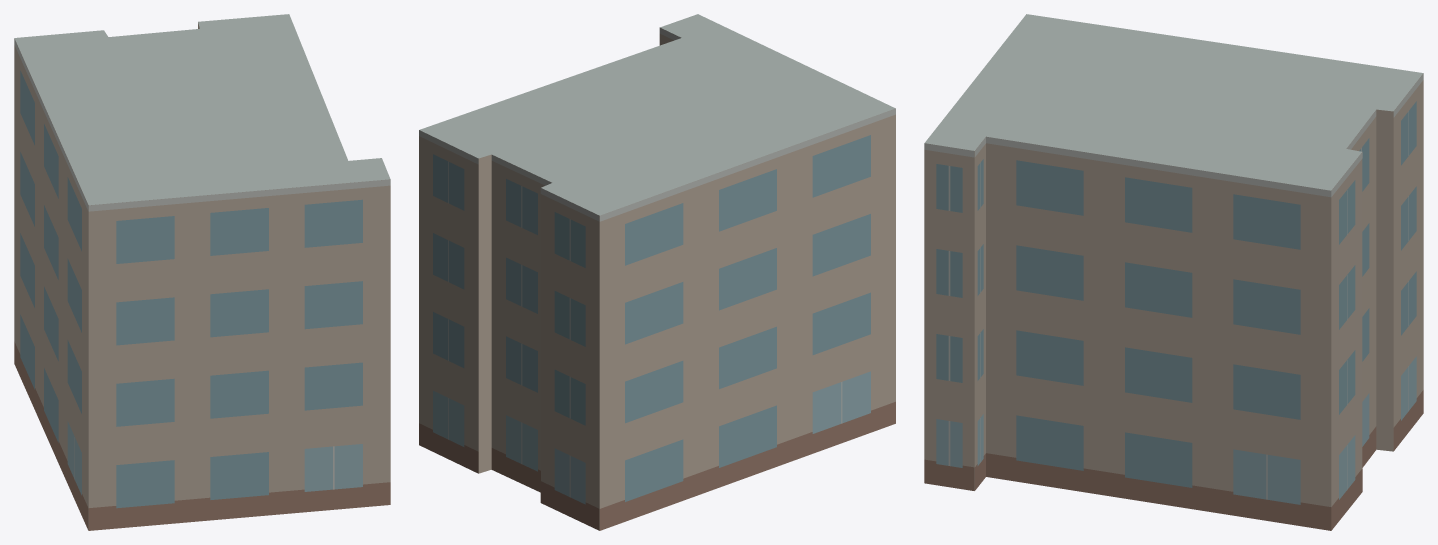
Rendered from survey-upis-32535114.glb.
3 views of the same model, side by side, from view 1: azimuth 30°, elevation 25°; view 2: azimuth 150°, elevation 25°; view 3: azimuth 270°, elevation 25° (orthographic). The views are drawn at different scales.
Visible parts, largest first — view 1: survey-upis-32535114.tmp; view 2: survey-upis-32535114.tmp; view 3: survey-upis-32535114.tmp.
Part boxes in pixels (<box>): survey-upis-32535114.tmp: <box>14,14,390,530</box>; survey-upis-32535114.tmp: <box>419,14,895,530</box>; survey-upis-32535114.tmp: <box>924,14,1423,530</box>.
Bounding box in the file's own units: 14.05 × 12.6 × 16.77.
